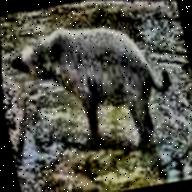boar: (12, 3, 190, 163)
